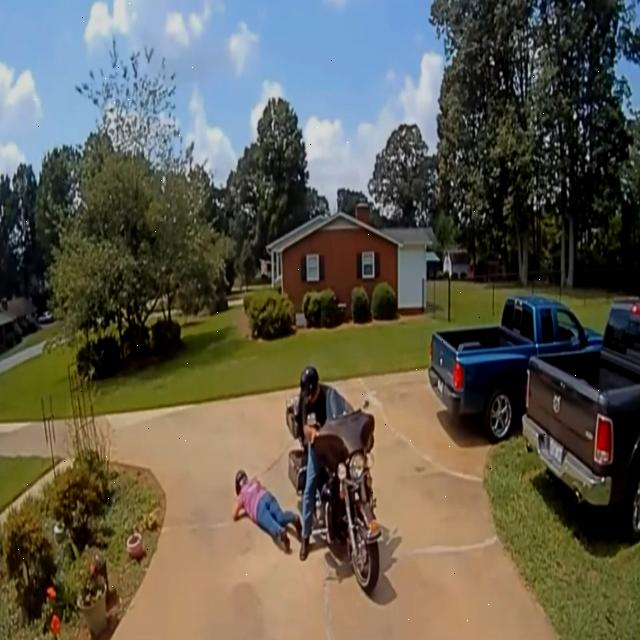fallen: (233, 470, 302, 553)
